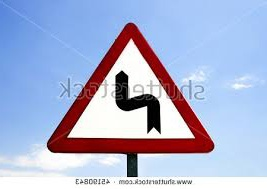Double_bend_left: (45, 19, 216, 154)
